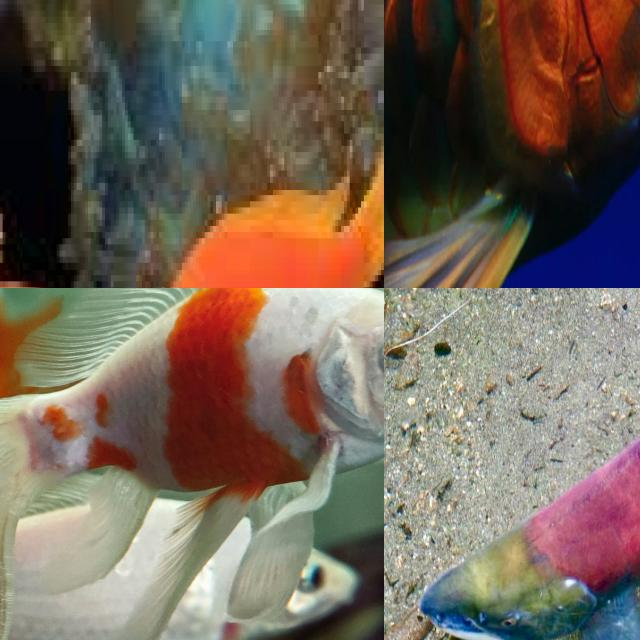fish: (0, 288, 384, 640), (0, 0, 384, 288), (384, 0, 640, 288), (448, 322, 640, 640)
